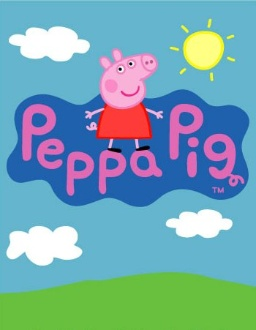Peppa: (83, 48, 167, 152)
